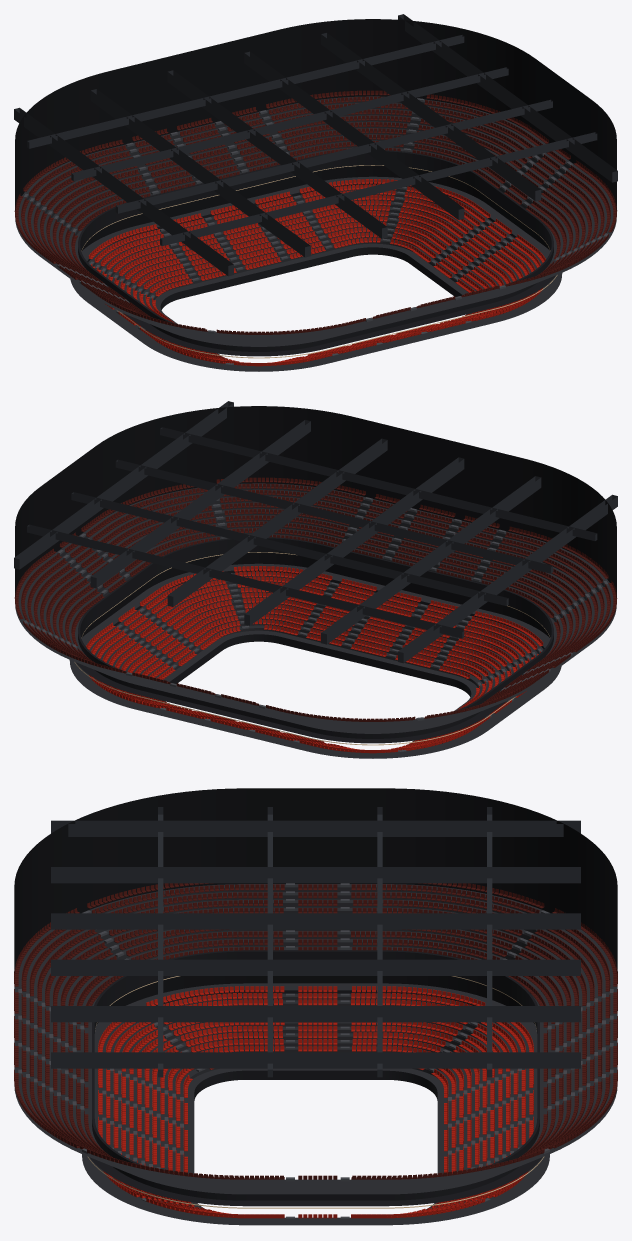
File: SM_ArenaBowl.fbx
3 views of the same model, one above another, from view 1: azimuth 30°, elevation 25°; view 2: azimuth 150°, elevation 25°; view 3: azimuth 270°, elevation 25° (orthographic). The views are drawn at different scales.
Parts seen in each view (by area): view 1: SM_ArenaBowl; view 2: SM_ArenaBowl; view 3: SM_ArenaBowl.
Boxes of the visible parts, x1,y1,x2,y2 form: SM_ArenaBowl: (14,14,617,371); SM_ArenaBowl: (14,401,617,758); SM_ArenaBowl: (14,788,617,1225).
Size of the model in its own units: 7748 by 2600 by 6608.
